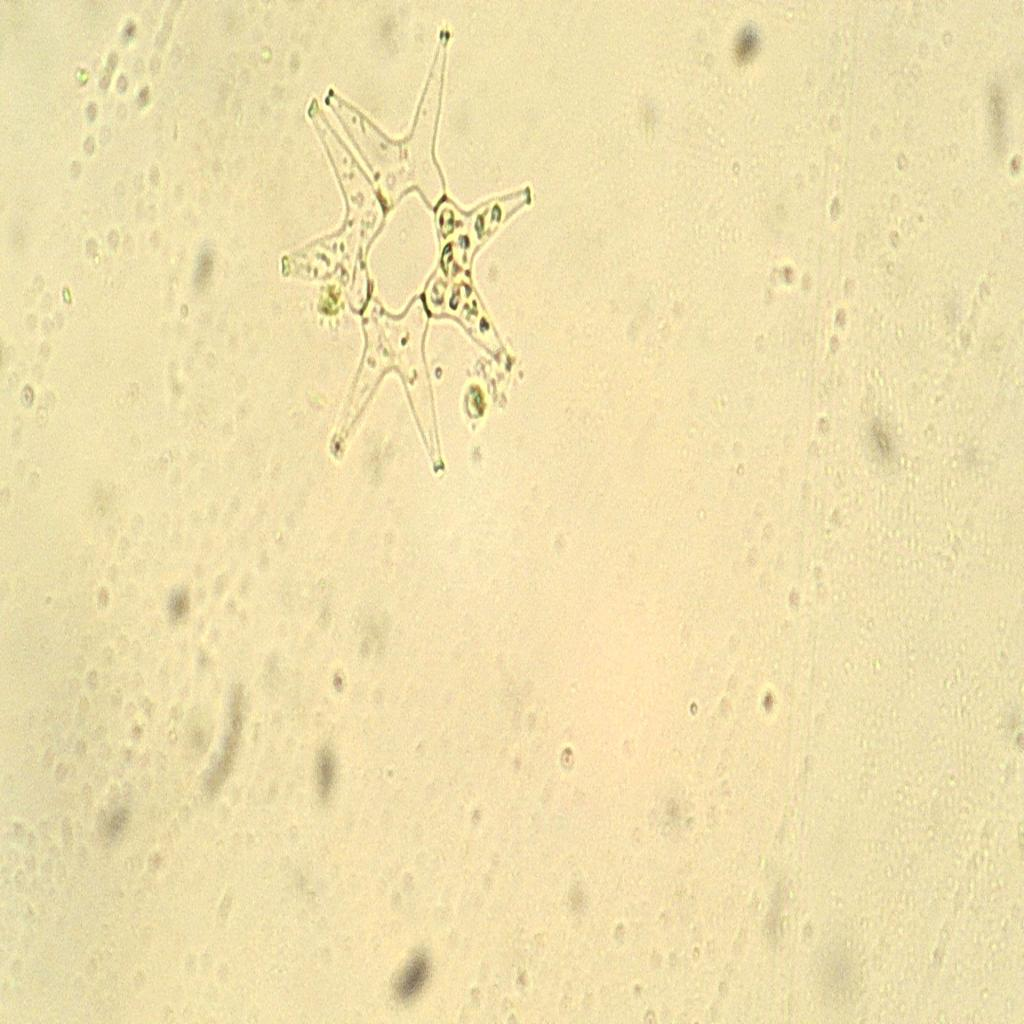Pediastrum_1F0: (256, 7, 564, 520)
